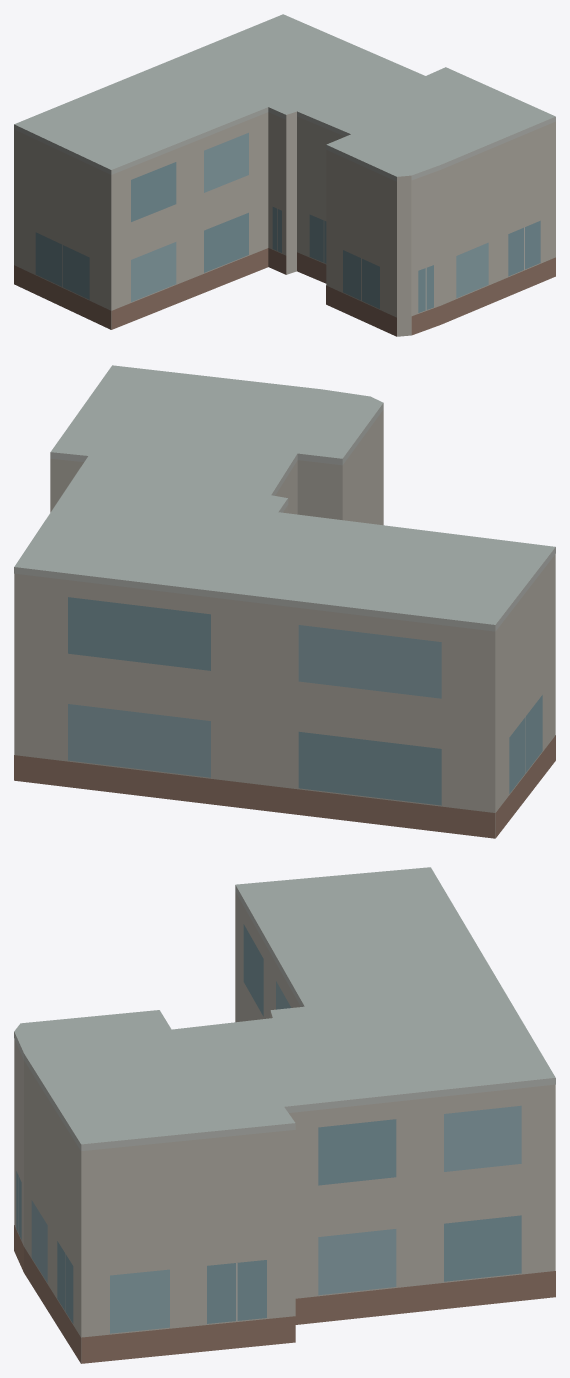
Rendered from survey-upis-32553596.glb.
3 views of the same model, one above another, from view 1: azimuth 30°, elevation 25°; view 2: azimuth 150°, elevation 25°; view 3: azimuth 270°, elevation 25° (orthographic). The views are drawn at different scales.
Parts seen in each view (by area): view 1: survey-upis-32553596.tmp; view 2: survey-upis-32553596.tmp; view 3: survey-upis-32553596.tmp.
Part boxes in pixels (box(x1,y1,x2,y2)): survey-upis-32553596.tmp: box(14, 14, 555, 336); survey-upis-32553596.tmp: box(14, 365, 555, 838); survey-upis-32553596.tmp: box(14, 867, 555, 1363).
Size of the model in its own units: 21.43 by 7.9 by 17.69.
